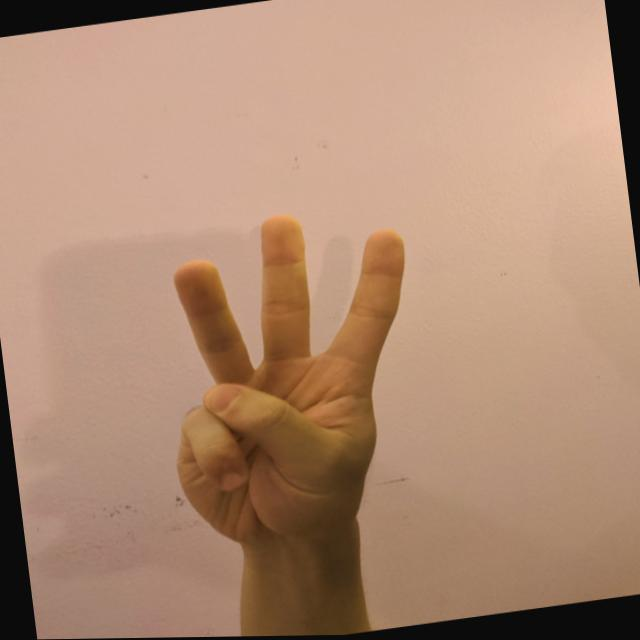W: (142, 191, 447, 559)
